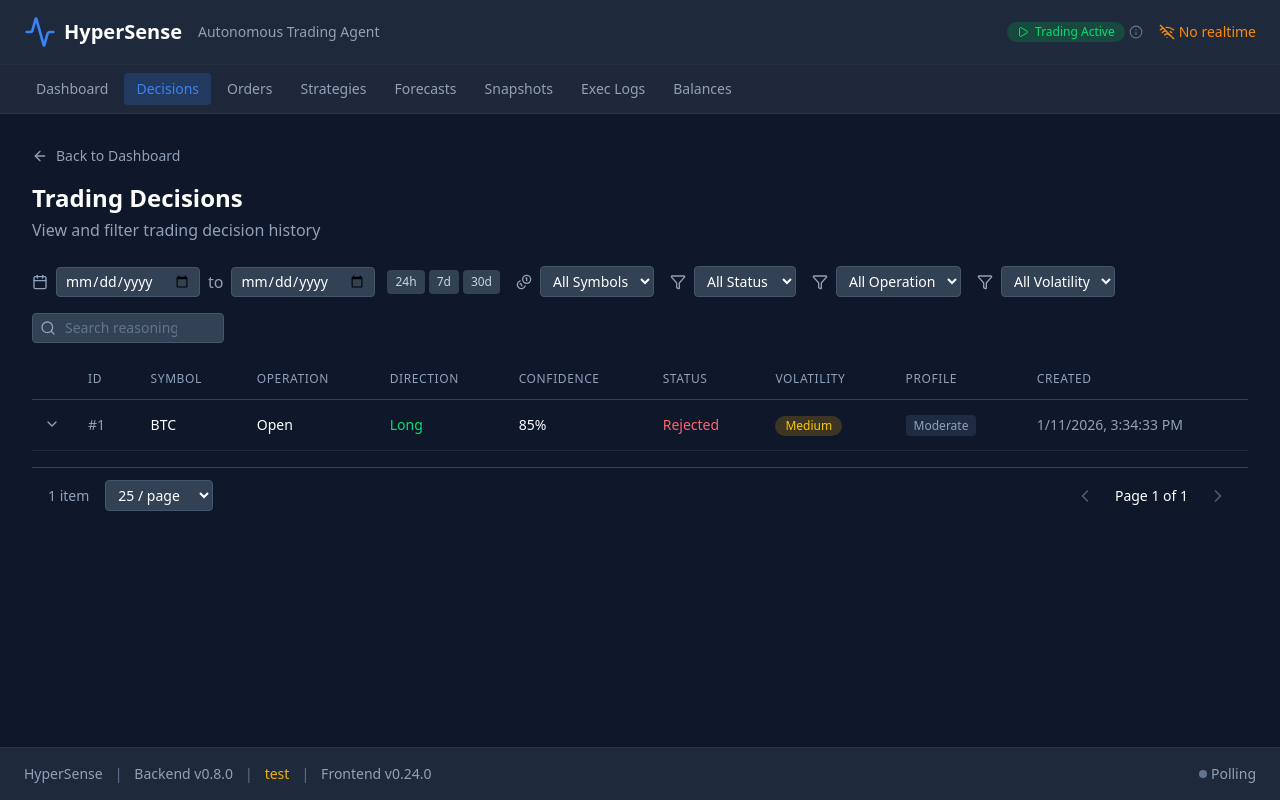
DecisionsPage › Data Table › shows rejection reason for rejected decisions
What coordinates should you click on to do the following:
click the button named "expand row"
I would click on:
 (52, 424)
Its box is [40,412,64,436].
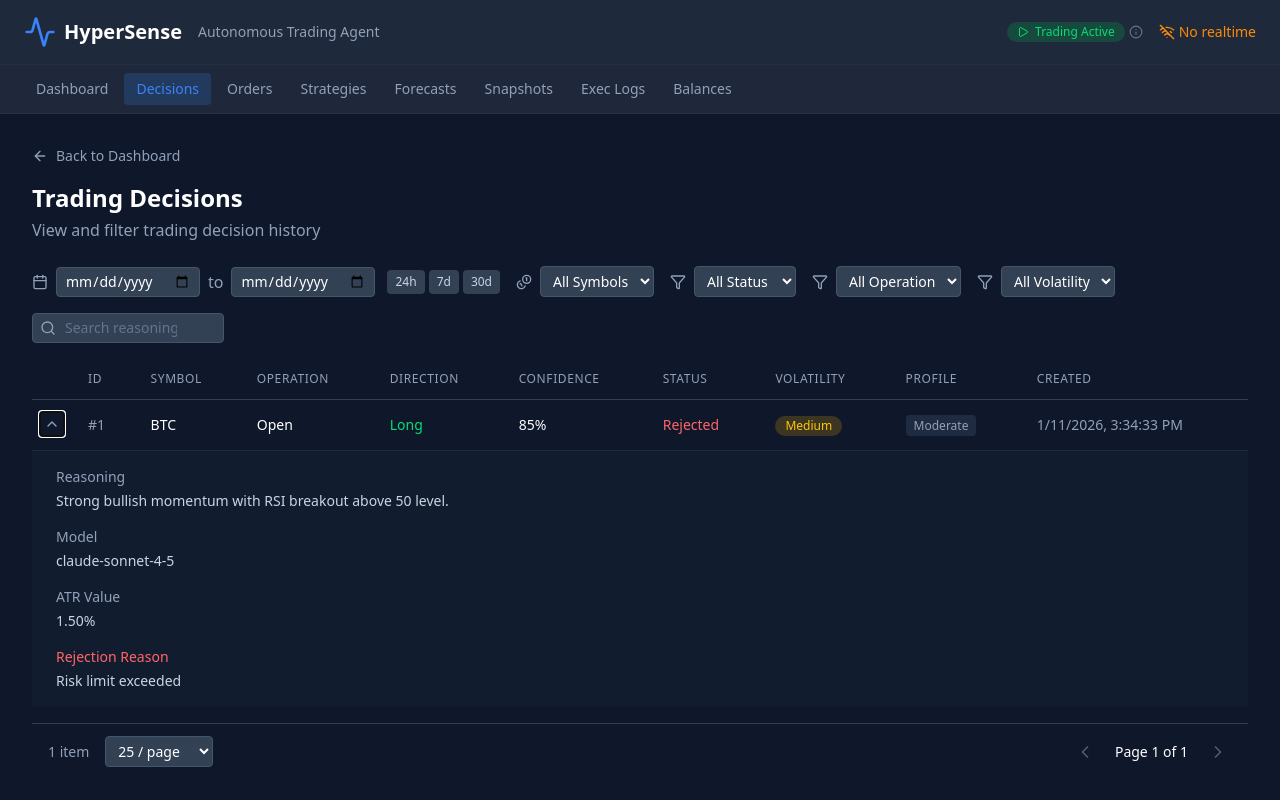
Now the text "Risk limit exceeded" is shown, box [56,671,181,690]
